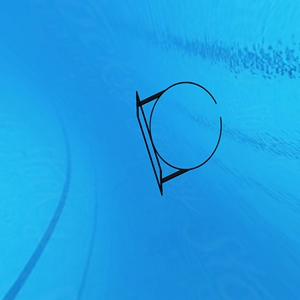circle: (133, 78, 229, 199)
